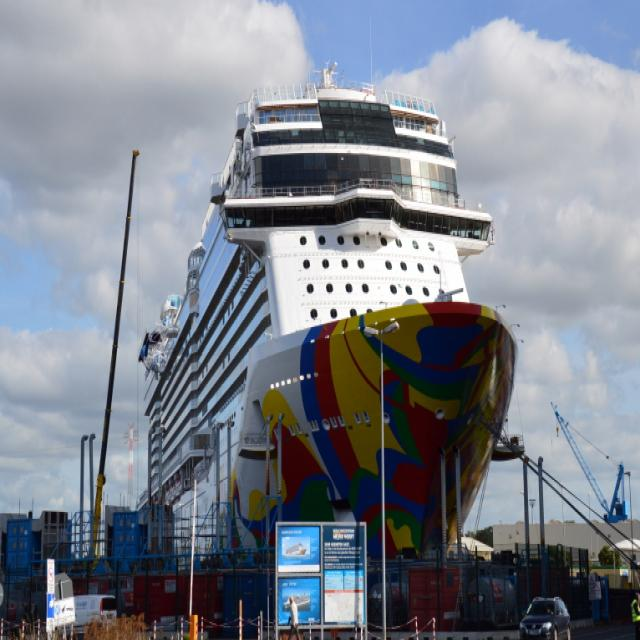cruises: (130, 61, 522, 638)
